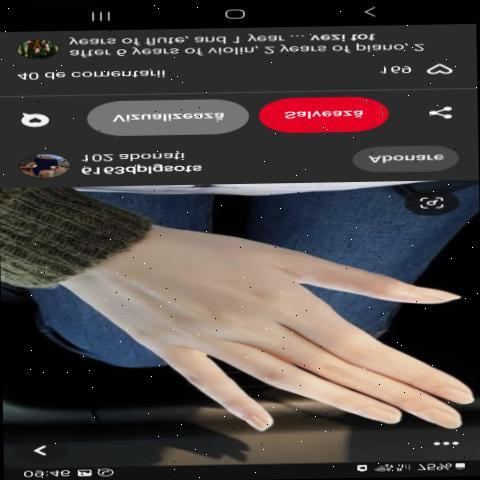Hands: (139, 212, 479, 470)
